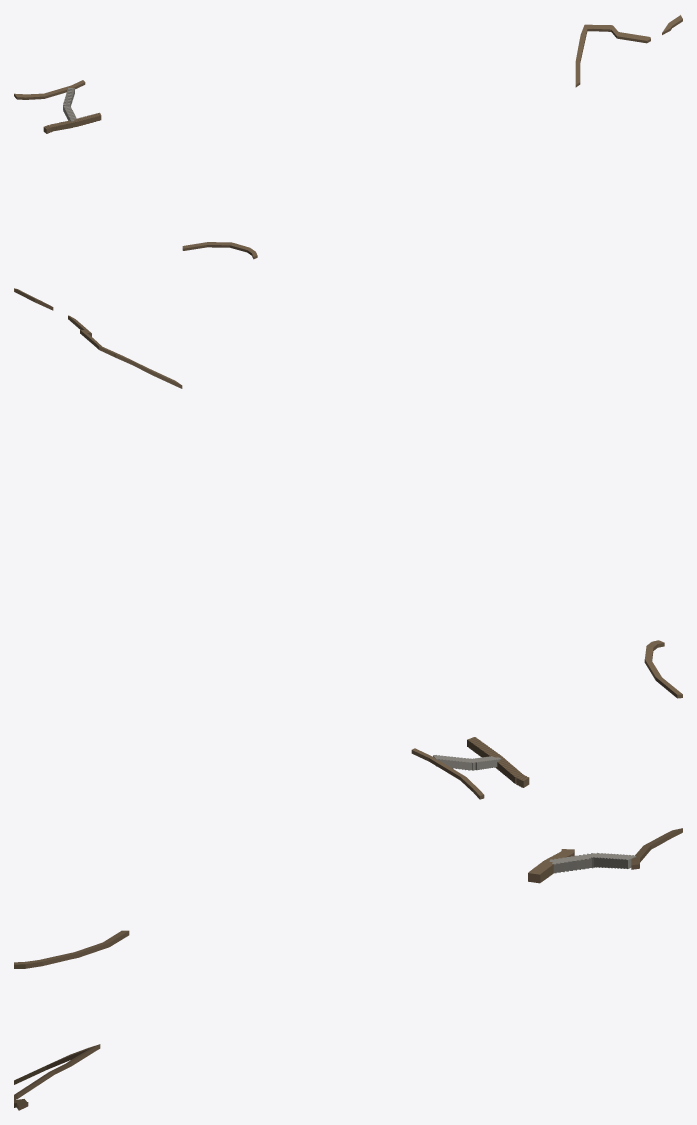
The model's file is 18-218853-118938.1feff25b.glb.
3 views of the same model, one above another, from view 1: azimuth 30°, elevation 25°; view 2: azimuth 150°, elevation 25°; view 3: azimuth 270°, elevation 25° (orthographic). The views are drawn at different scales.
Bounding box in the file's own units: 147 × 40.15 × 94.37.
